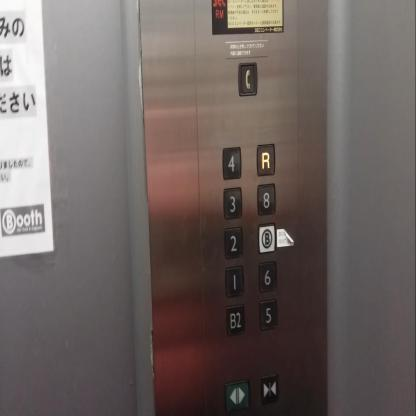1: (225, 265, 244, 297)
2: (224, 226, 243, 260)
3: (222, 186, 242, 220)
4: (221, 146, 242, 180)
5: (259, 298, 278, 330)
6: (258, 260, 277, 292)
8: (257, 182, 276, 215)
B: (258, 222, 276, 254)
B2: (226, 303, 244, 337)
R: (256, 143, 275, 177)
call: (237, 60, 258, 98)
close: (260, 373, 277, 405)
open: (224, 378, 250, 412)
